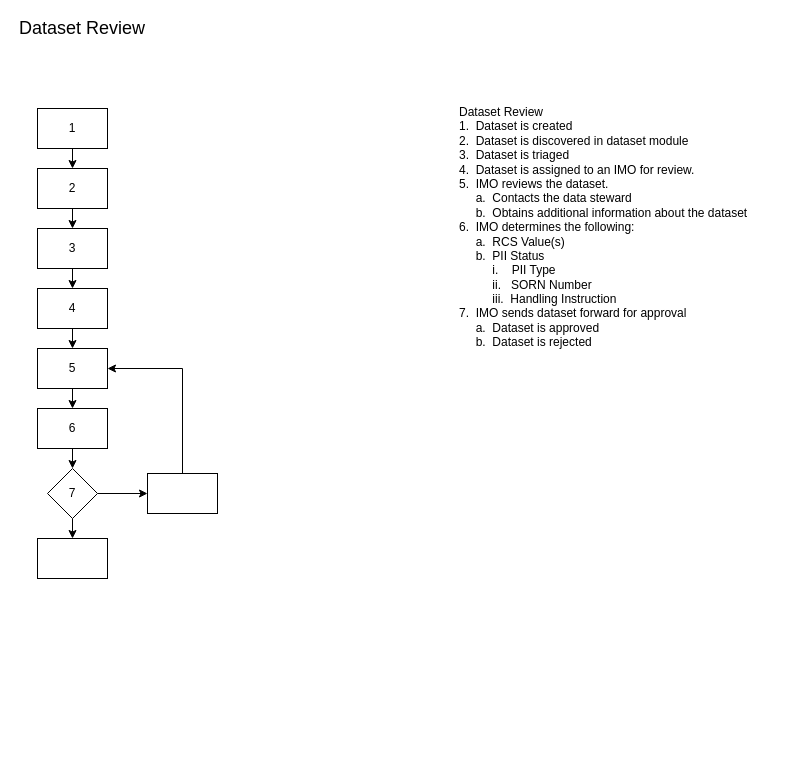
Some shapes in this 794 by 765 pixel diagram are drawn without their labels. The centre of each missing label's shape, as x and y in pixels:
"7.a" belongs at pixel 72 558.
"7.b" belongs at pixel 182 493.
